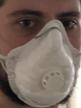with_mask: (2, 1, 81, 108)
